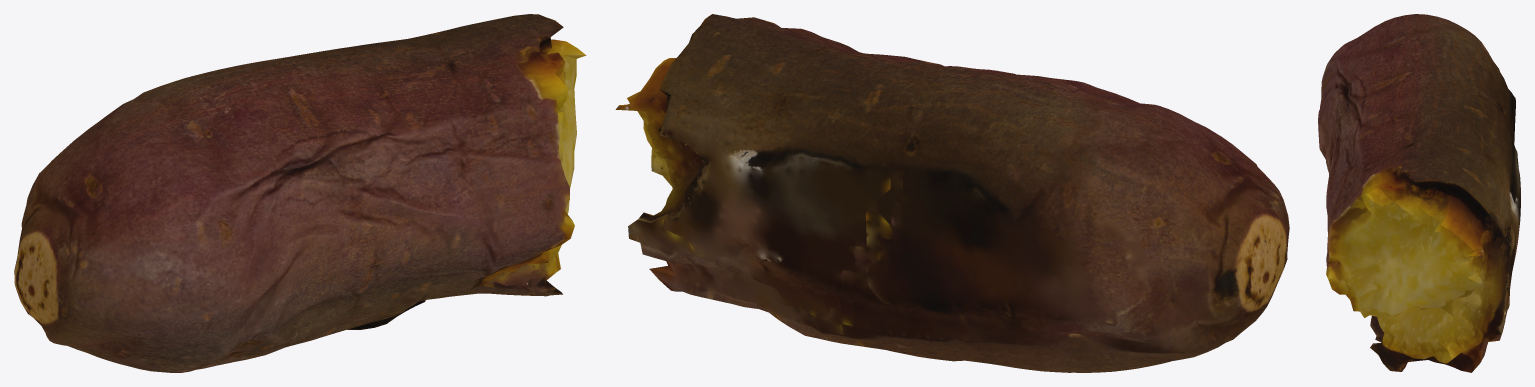
File: main.glb
The picture shows the model from 3 angles, left to right: view 1: azimuth 30°, elevation 25°; view 2: azimuth 150°, elevation 25°; view 3: azimuth 270°, elevation 25°; orthographic projection. The views are drawn at different scales.
Visible parts, largest first — view 1: Object_2; view 2: Object_2; view 3: Object_2.
Part boxes in pixels (x1,y1,x2,y2): Object_2: [14, 14, 586, 372]; Object_2: [615, 14, 1289, 372]; Object_2: [1318, 14, 1520, 372].
Size of the model in its own units: 21.26 by 9.91 by 8.22.
Materials: 1 (1 with a texture image).
